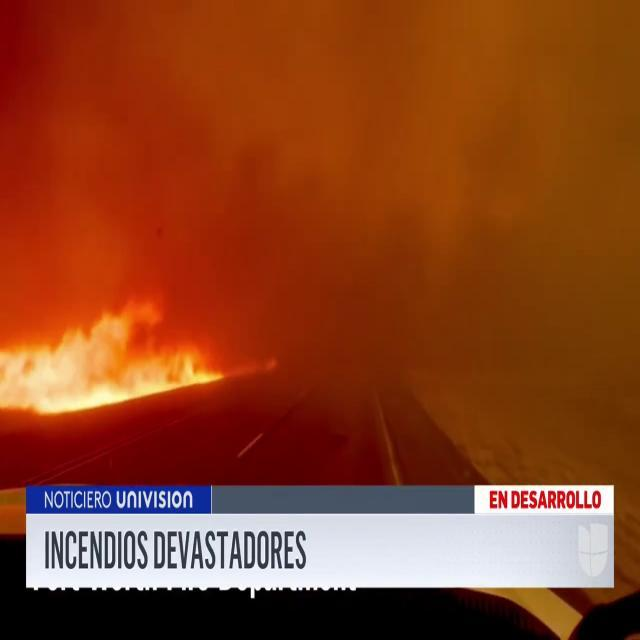Fire: (0, 265, 230, 422)
Smoke: (1, 2, 634, 330)
